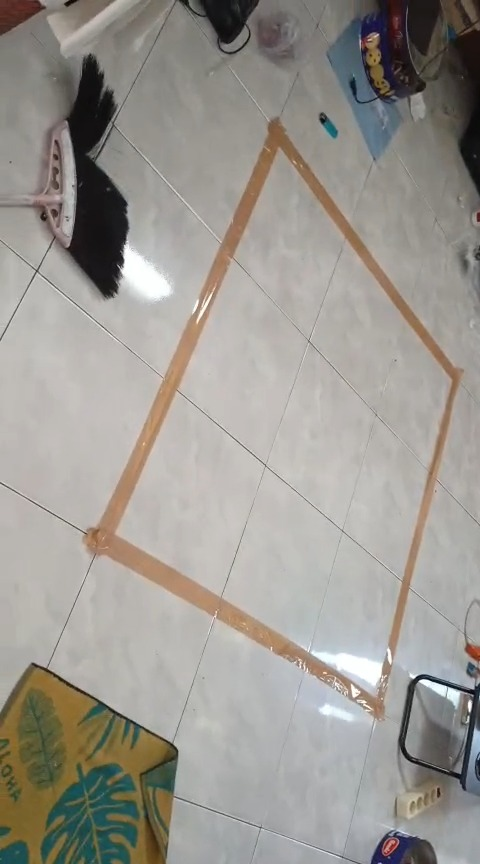floor marking: (86, 119, 462, 718)
